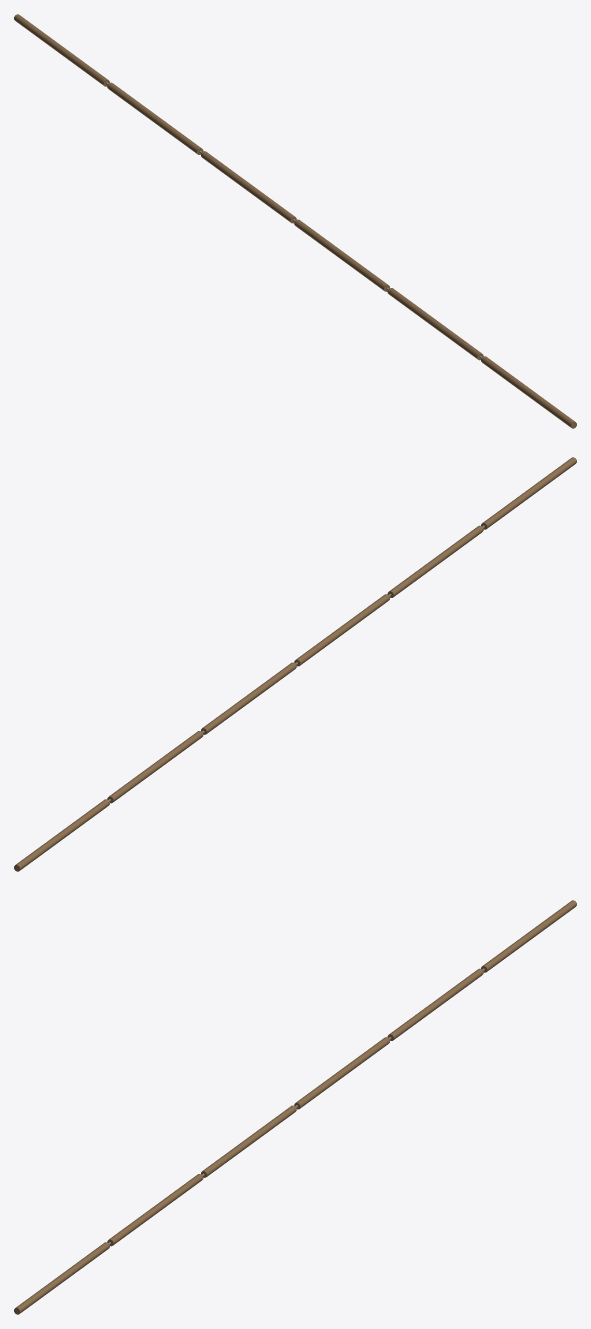
File: tf_log_boom_60m.glb
3 views of the same model, one above another, from view 1: azimuth 30°, elevation 25°; view 2: azimuth 150°, elevation 25°; view 3: azimuth 330°, elevation 25° (orthographic).
Visible parts, largest first — view 1: tf_log_boom_60m; view 2: tf_log_boom_60m; view 3: tf_log_boom_60m.
Part boxes in pixels (left/top/right/bottom): tf_log_boom_60m: left=14, top=14, right=576, bottom=428; tf_log_boom_60m: left=14, top=457, right=576, bottom=871; tf_log_boom_60m: left=14, top=900, right=576, bottom=1314.
Size of what is drawn, in the model's own units: 0.3804 by 0.4 by 59.6.
